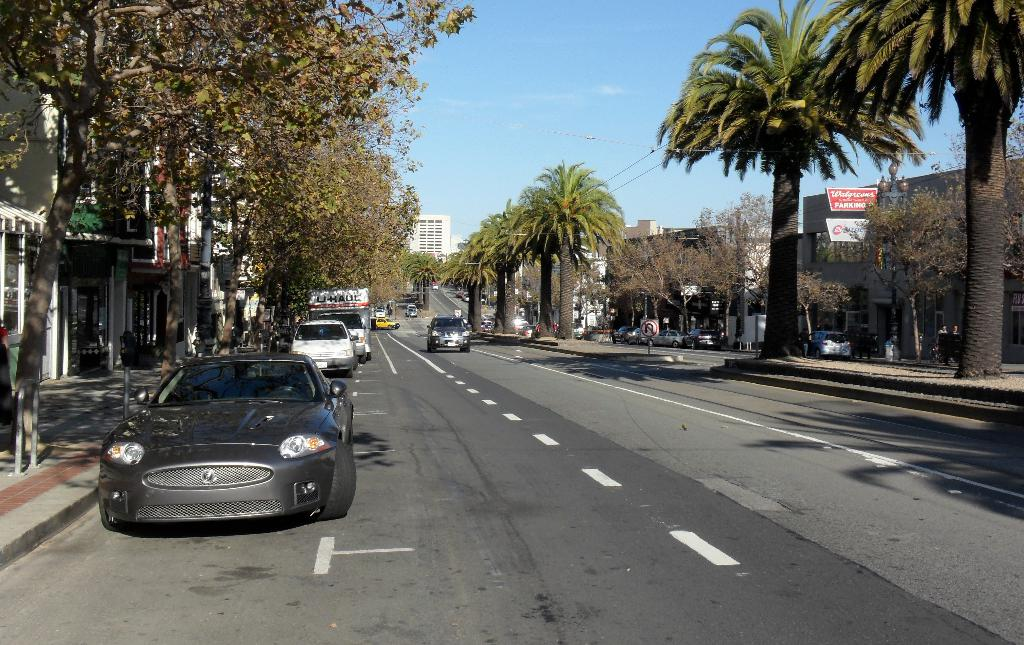Car: (99, 355, 355, 529), (290, 319, 357, 370), (429, 313, 475, 355), (803, 331, 849, 352), (646, 324, 685, 344), (689, 329, 716, 349)
